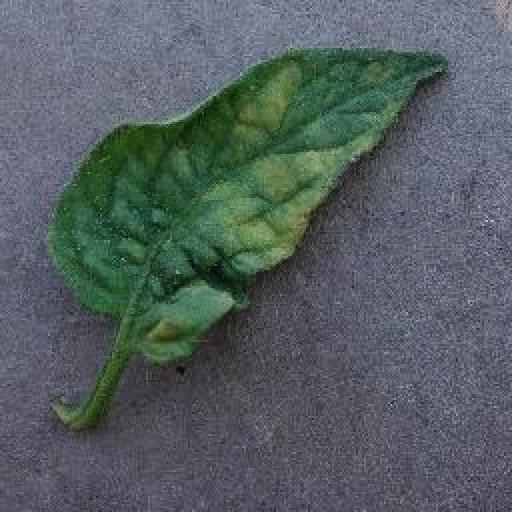disease_tomato: (54, 48, 448, 366)
